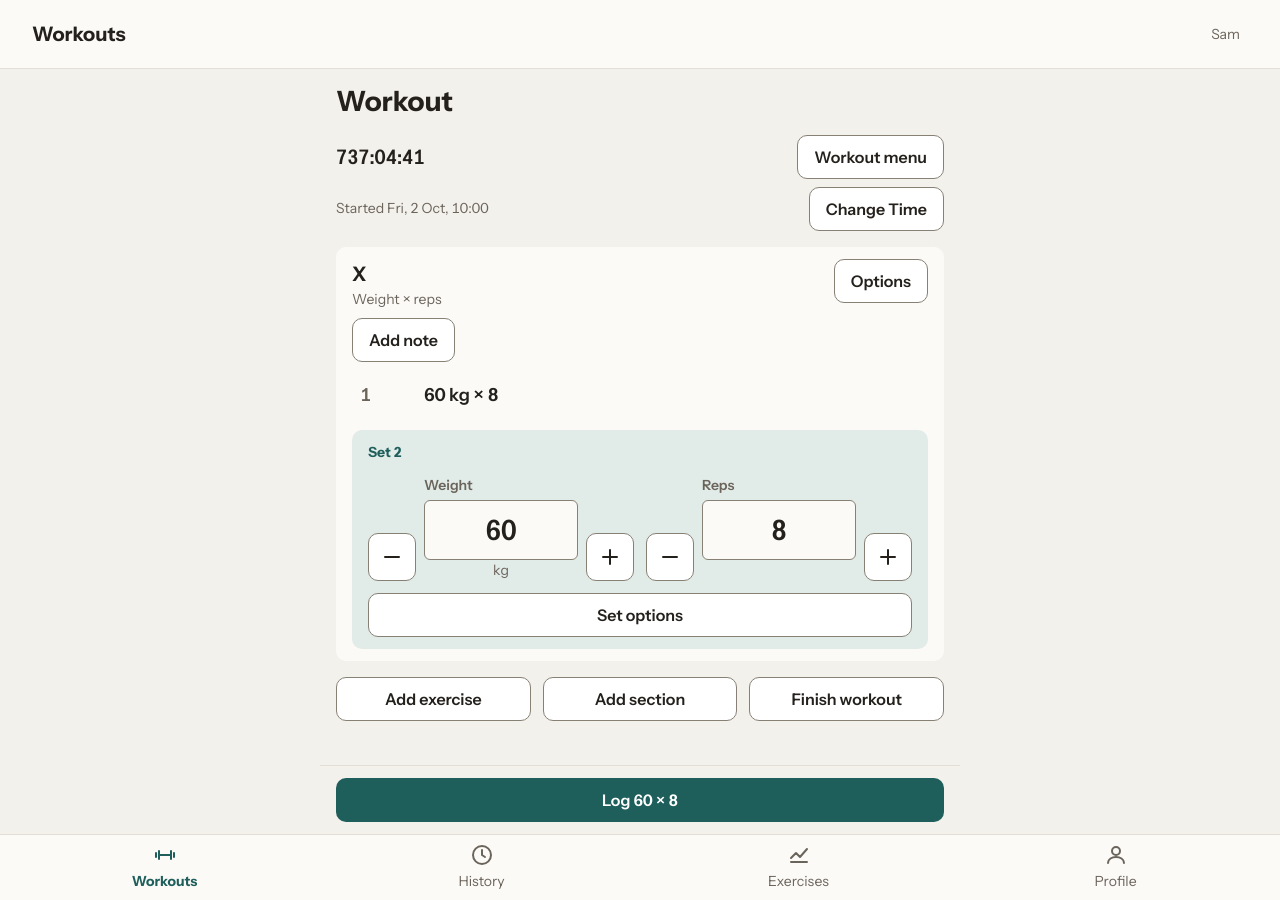
06.2 AC15 — the status line › an offline structure write says so
Expected: the heading "Workout" is shown, [336,84,453,118]
Click the button with aria-label "Options for ".
click(881, 281)  # box [834,259,928,303]
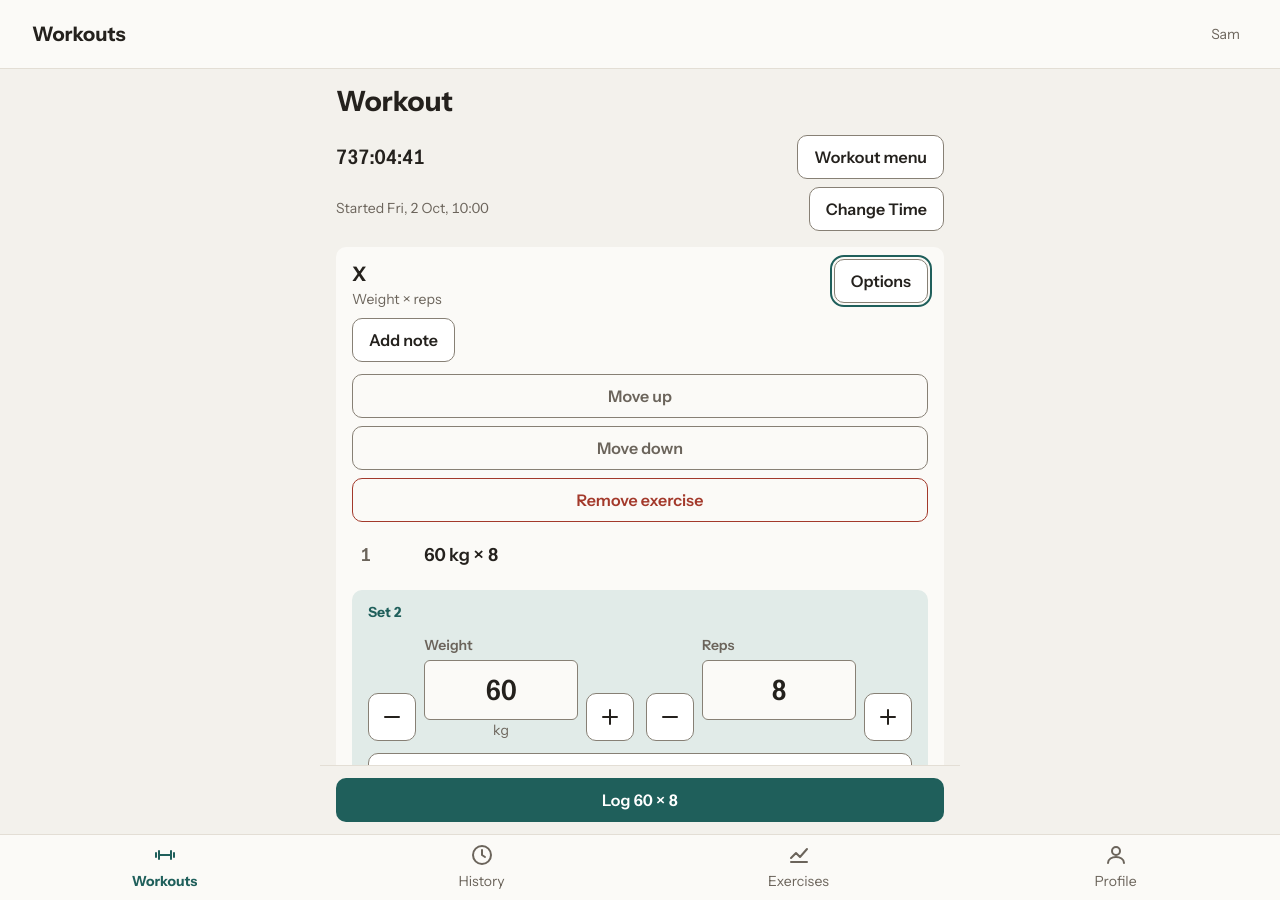
Click the button "Remove exercise".
click(640, 500)  # box [352,478,928,522]
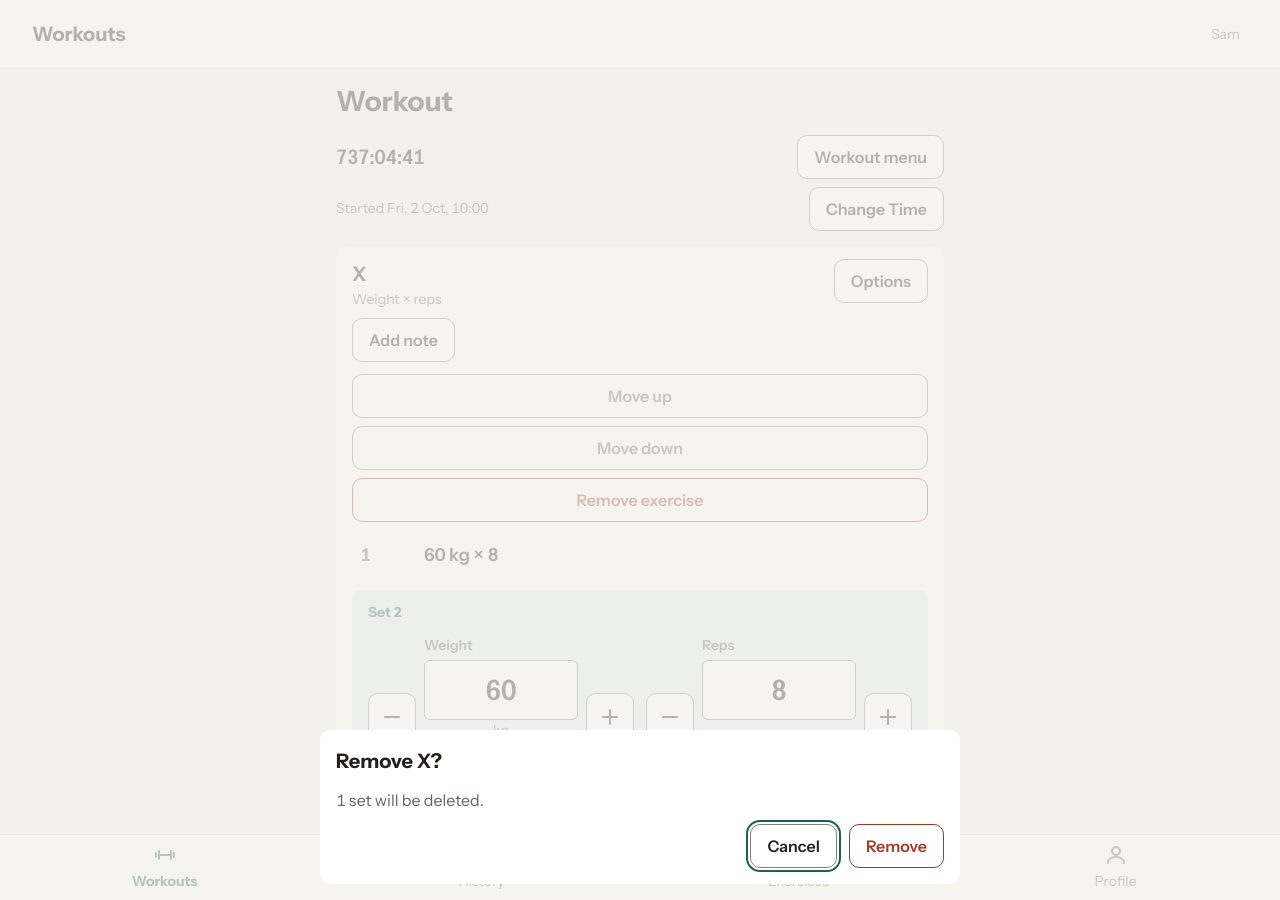
Click the button "Remove".
click(896, 846)  # box [849,824,944,868]
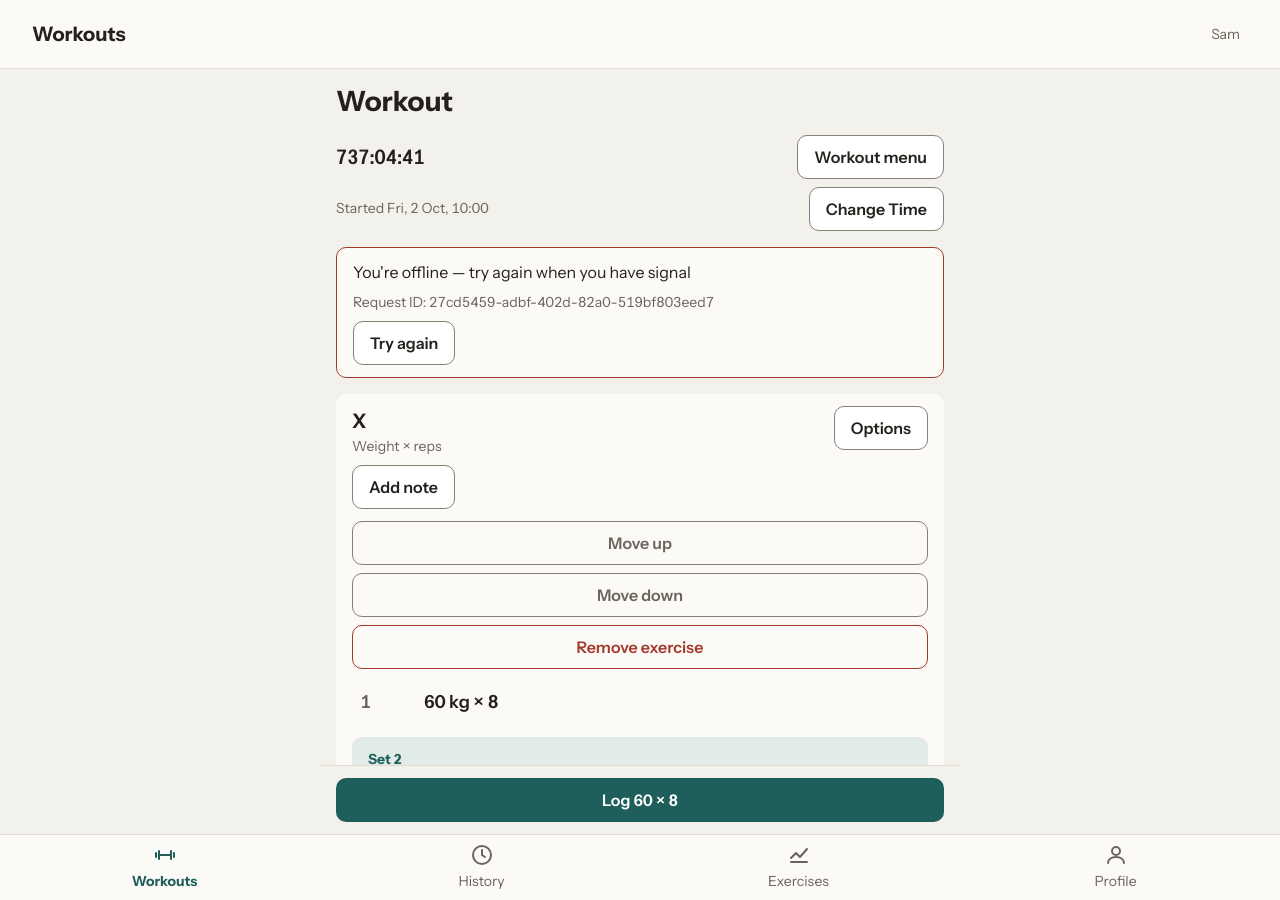
Result: the text "You're offline — try again when you have signal" is shown at [353,260,691,284]
